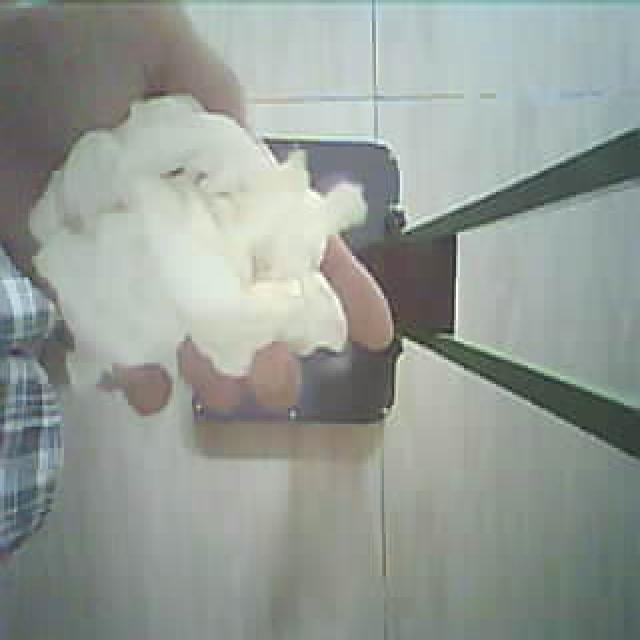Paper: (26, 77, 444, 490)
